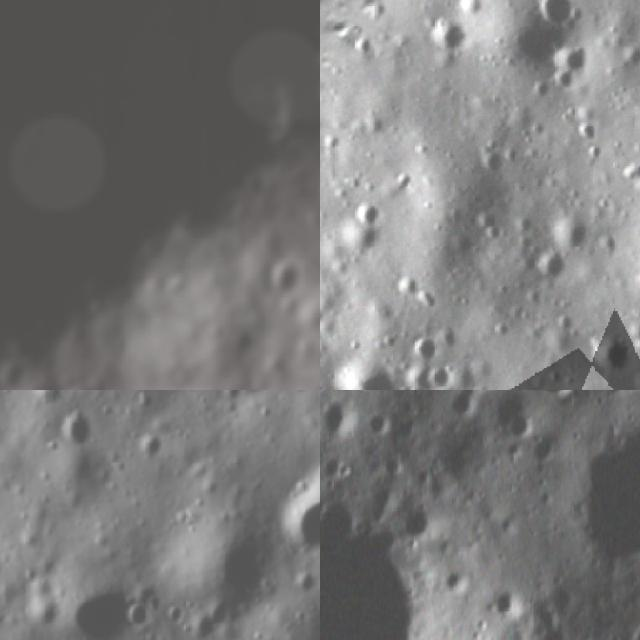crater: (320, 479, 448, 640), (164, 514, 273, 640), (583, 435, 640, 567), (320, 336, 423, 390), (278, 464, 320, 566), (59, 585, 132, 640), (577, 318, 640, 381), (415, 0, 478, 61), (540, 196, 601, 256), (542, 26, 605, 84), (340, 181, 397, 237), (524, 239, 580, 293), (522, 0, 591, 41), (57, 402, 102, 462), (400, 322, 450, 371), (266, 252, 314, 298), (321, 393, 364, 444), (544, 59, 590, 102), (414, 354, 463, 390), (566, 110, 608, 150), (401, 498, 438, 540), (224, 390, 284, 415), (531, 428, 567, 468), (492, 586, 530, 622), (368, 408, 399, 446), (446, 0, 493, 25), (509, 408, 541, 442), (449, 392, 484, 423), (535, 390, 582, 404), (627, 614, 640, 640)
